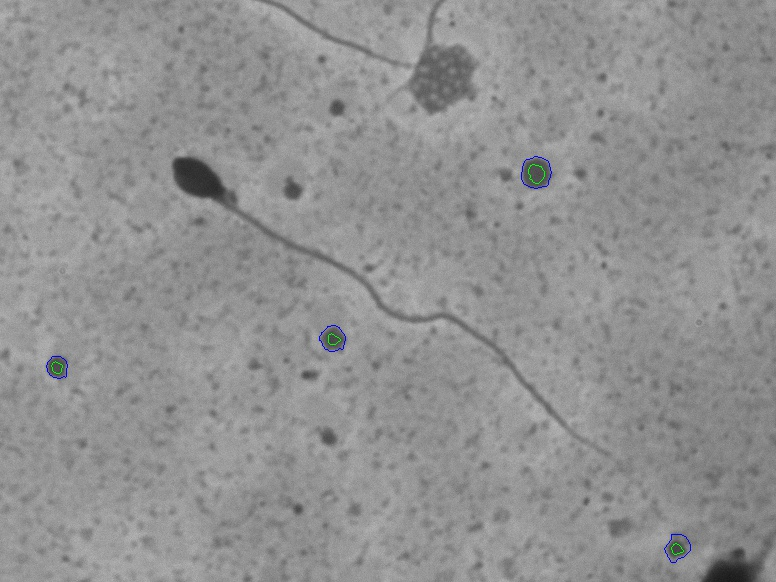Abnormal: (143, 129, 609, 465)
